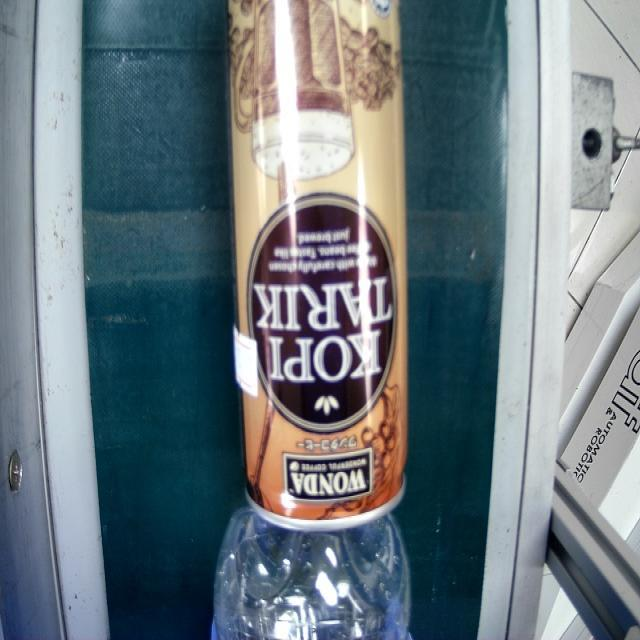Pet_Bottle: (208, 519, 418, 640)
can: (225, 0, 412, 518)
